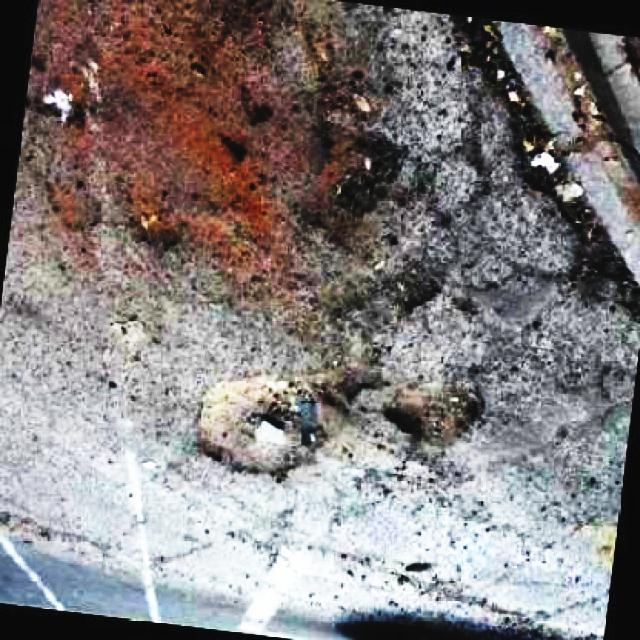pothole: (443, 11, 640, 320), (189, 371, 343, 483), (328, 241, 449, 314), (385, 370, 492, 452), (337, 127, 411, 210)
